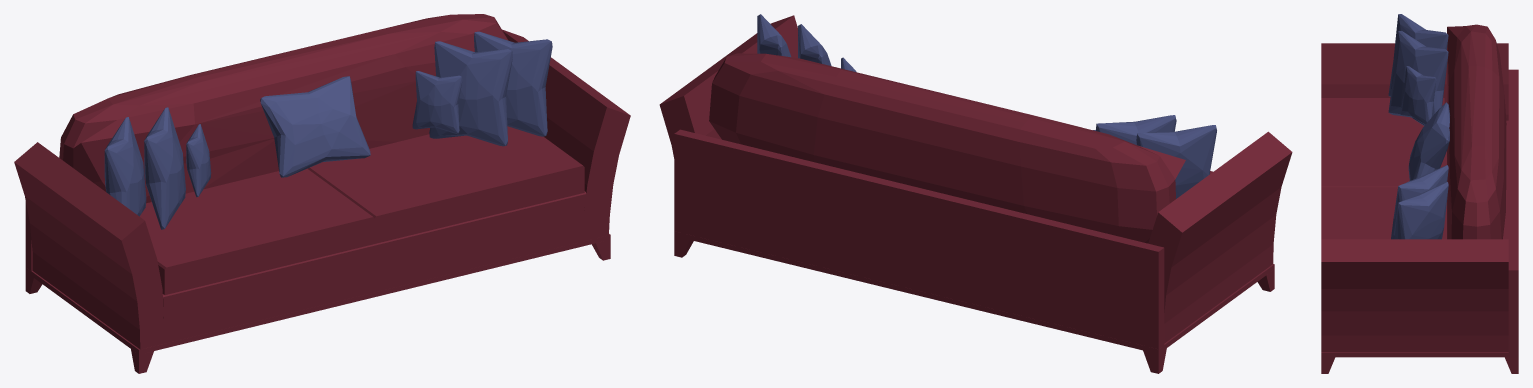
File: Accesories_Sofa_Large.004.glb
3 views of the same model, side by side, from view 1: azimuth 30°, elevation 25°; view 2: azimuth 150°, elevation 25°; view 3: azimuth 270°, elevation 25° (orthographic). The views are drawn at different scales.
Parts seen in each view (by area): view 1: Accesories_Sofa_Large.004; view 2: Accesories_Sofa_Large.004; view 3: Accesories_Sofa_Large.004.
Part boxes in pixels (x1=…): Accesories_Sofa_Large.004: x1=14, y1=14, x2=630, y2=373; Accesories_Sofa_Large.004: x1=659, y1=14, x2=1292, y2=373; Accesories_Sofa_Large.004: x1=1321, y1=14, x2=1518, y2=373.
Bounding box in the file's own units: 2.38 × 0.8714 × 0.9155.
1 material, 1 textured.
